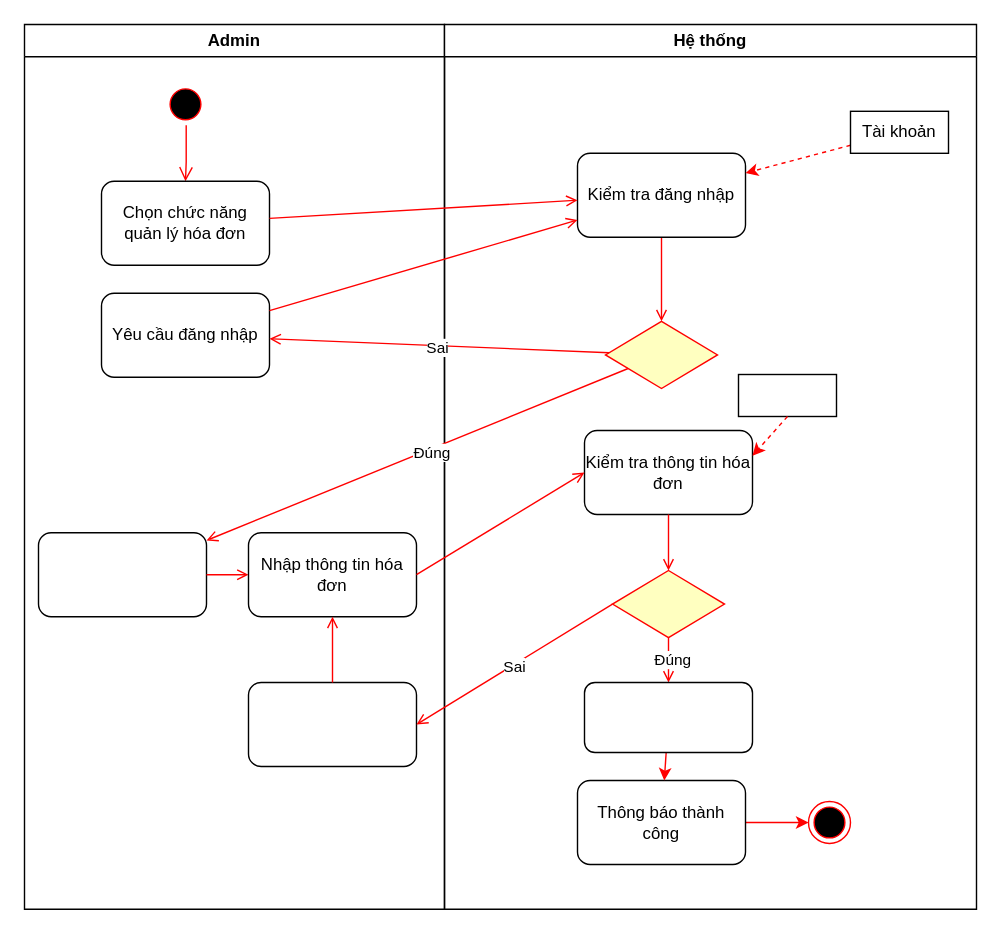
Some shapes in this 1001 by 934 pixel diagram are drawn without their labels. The shapes that lost their labels are listed below. From the top down, each one's centre as x and y in pixels, then its label:
pixel 786 394: Hóa đơn
pixel 121 574: Chọn chức năng hủy hóa đơn
pixel 331 723: Thông báo lỗi, yêu cầu chỉnh sửa
pixel 667 716: Tiến hành xóa hóa đơn
